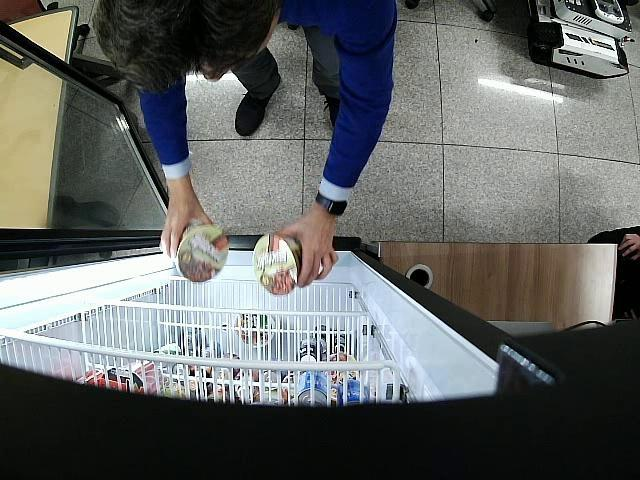03_chapagetti_L: (174, 220, 230, 284), (252, 233, 302, 296)
